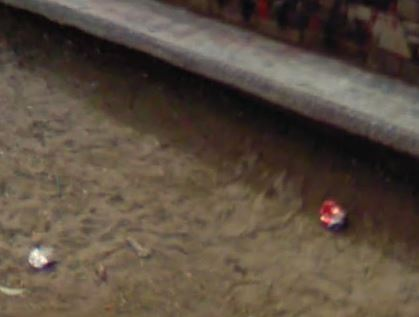trash: (314, 187, 353, 237), (22, 237, 58, 275)
